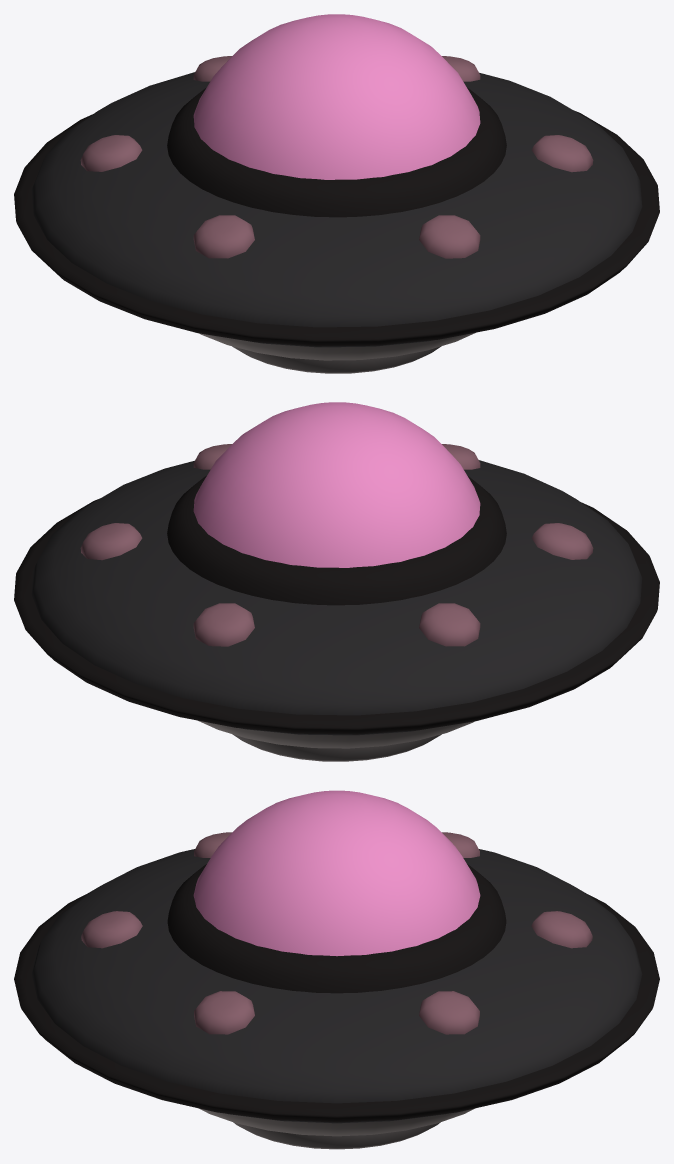
Rendered from ufo2.gltf.
3 views of the same model, one above another, from view 1: azimuth 30°, elevation 25°; view 2: azimuth 150°, elevation 25°; view 3: azimuth 270°, elevation 25° (orthographic).
Parts seen in each view (by area): view 1: ufo; view 2: ufo; view 3: ufo.
Part boxes in pixels (box(x1,y1,x2,y2)): ufo: box(14, 14, 659, 373); ufo: box(14, 402, 659, 761); ufo: box(14, 790, 659, 1149).
Size of the model in its own units: 4.21 by 2.14 by 4.21.
